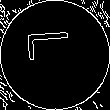L_E: (29, 38, 81, 72)
